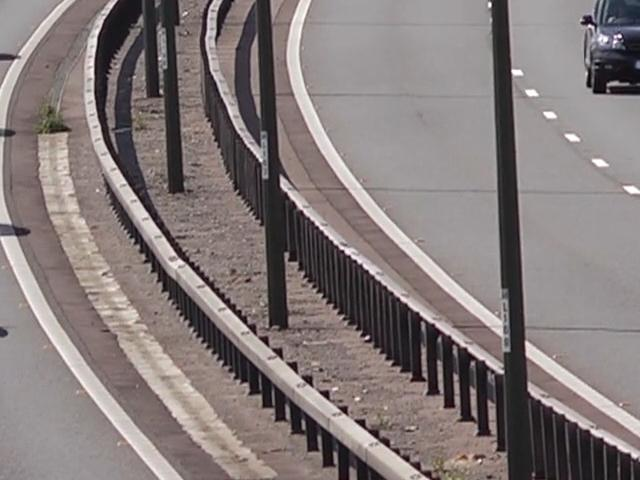car: (583, 0, 640, 90)
